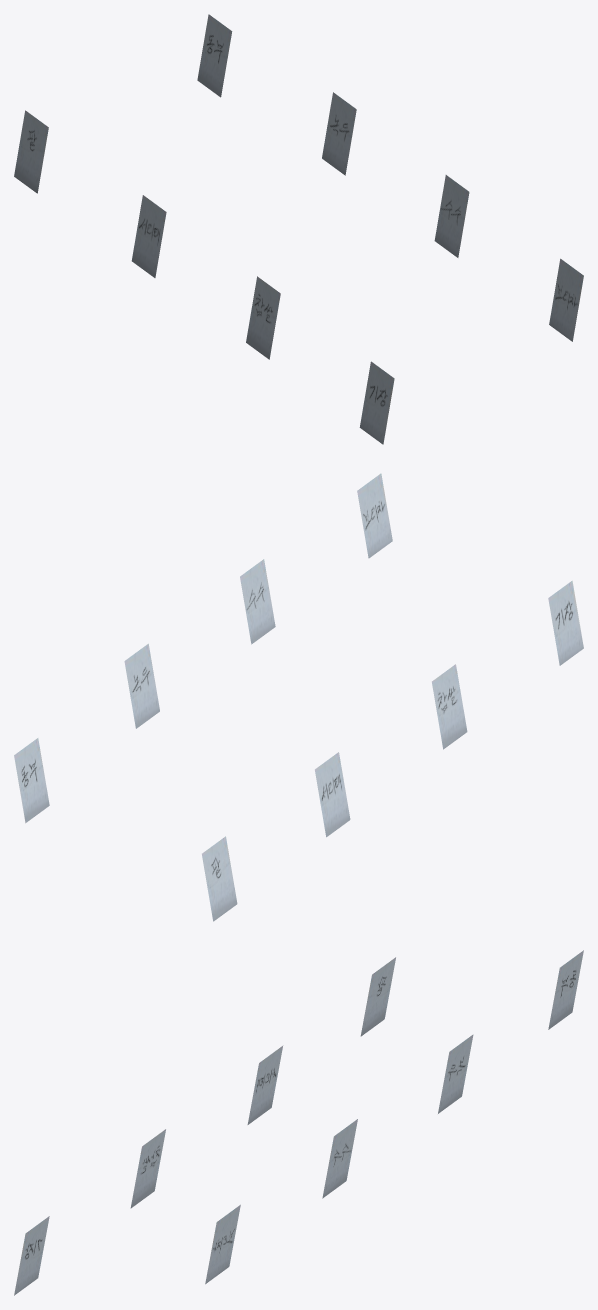
Rendered from sign.FBX.
3 views of the same model, one above another, from view 1: azimuth 30°, elevation 25°; view 2: azimuth 150°, elevation 25°; view 3: azimuth 330°, elevation 25° (orthographic). The views are drawn at different scales.
Visible parts, largest first — view 1: Plane005, Plane002, Plane006, Plane007, Plane008, Plane003, Plane004, Plane009; view 2: Plane005, Plane002, Plane008, Plane009, Plane003, Plane004, Plane006, Plane007; view 3: Plane002, Plane005, Plane008, Plane004, Plane009, Plane006, Plane007, Plane003.
Part boxes in pixels (box(x1,y1,x2,y2)): Plane005: box(359, 361, 394, 444); Plane002: box(197, 14, 232, 97); Plane006: box(14, 110, 48, 193); Plane007: box(322, 92, 356, 175); Plane008: box(434, 175, 469, 257); Plane003: box(131, 195, 166, 277); Plane004: box(246, 276, 280, 359); Plane009: box(549, 258, 583, 341); Plane005: box(548, 580, 583, 665); Plane002: box(14, 738, 49, 823); Plane008: box(240, 559, 275, 644); Plane009: box(357, 473, 392, 558); Plane003: box(315, 752, 350, 837); Plane004: box(432, 664, 467, 749); Plane006: box(202, 836, 237, 921); Plane007: box(124, 643, 159, 728); Plane002: box(548, 950, 583, 1029); Plane005: box(14, 1216, 49, 1295); Plane008: box(322, 1119, 357, 1198); Plane004: box(130, 1129, 165, 1208); Plane009: box(205, 1204, 240, 1284); Plane006: box(360, 957, 395, 1036); Plane007: box(438, 1034, 473, 1113); Plane003: box(247, 1045, 283, 1124).
Bounding box in the file's own units: 6.93 × 3.98 × 21.71.
1 material, 1 textured.
